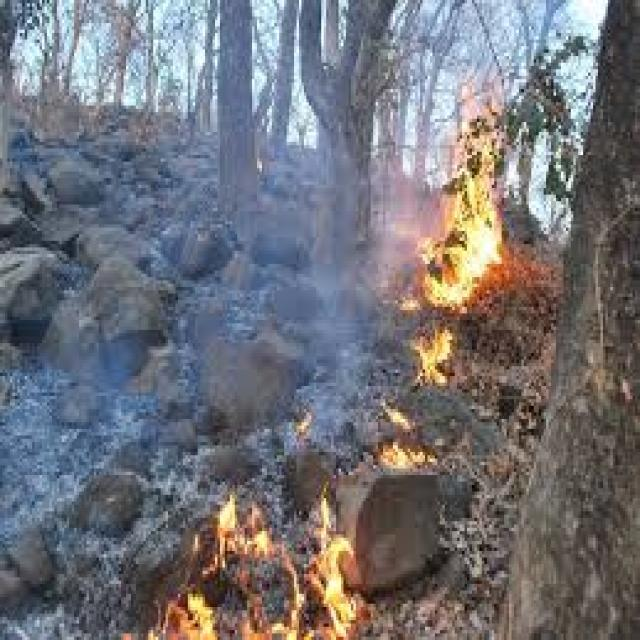Fire: (390, 110, 512, 344), (208, 486, 360, 640), (448, 154, 498, 318), (307, 534, 359, 638), (378, 388, 442, 440), (150, 585, 206, 640), (412, 327, 454, 387), (378, 442, 434, 474), (288, 404, 320, 437)
Smoke: (0, 9, 200, 522), (188, 122, 376, 394)
